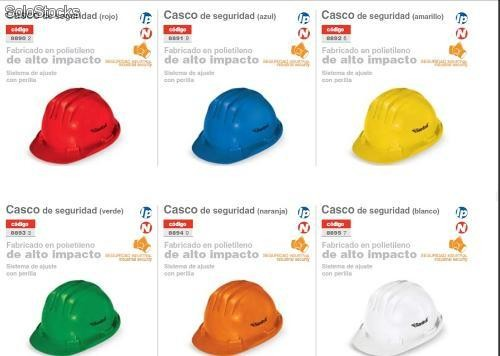casco: (27, 86, 122, 166), (350, 86, 444, 166), (189, 86, 284, 165), (349, 278, 445, 356), (27, 279, 122, 356), (190, 279, 284, 356)
